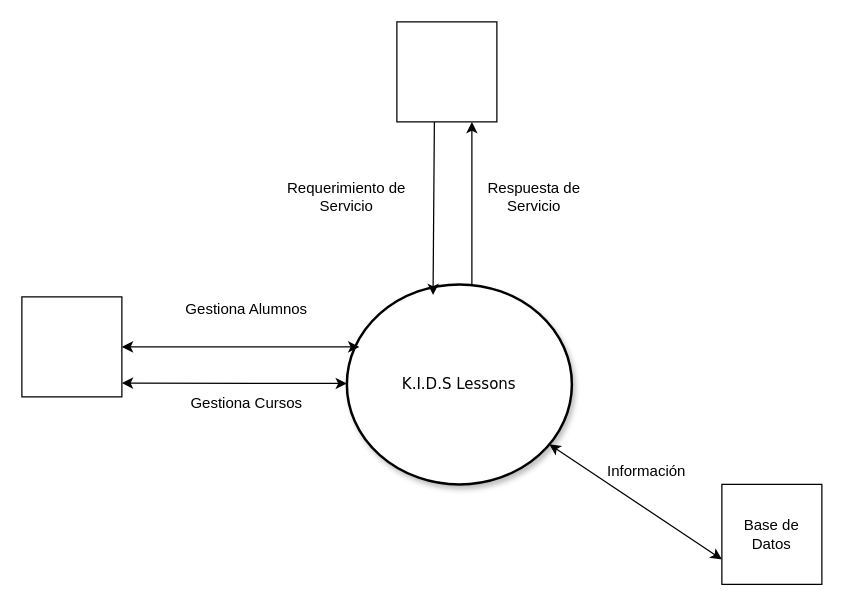
The diagram is 844 pixels wide and 606 high, and some of its shapes have lost their labels. The shapes that lost their labels are listed below. From the top down, each one's centre as x and y in pixels, then its label:
At [446,71]: "Alumno".
At [71,346]: "Administrador".
